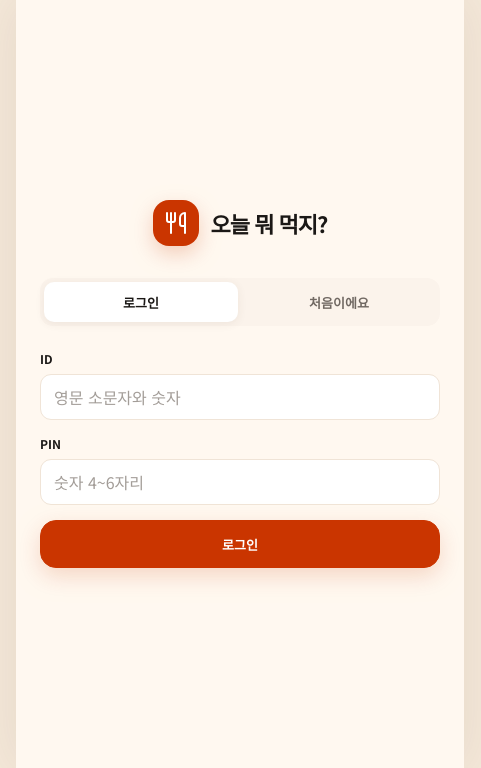
가입 화면에서 ID 중복확인과 제한된 개인정보 입력 방식을 제공한다
Expected: the tab "로그인" is shown, [44,282,238,322]
Click the tab "처음이에요".
click(339, 302)  # box [242,282,436,322]
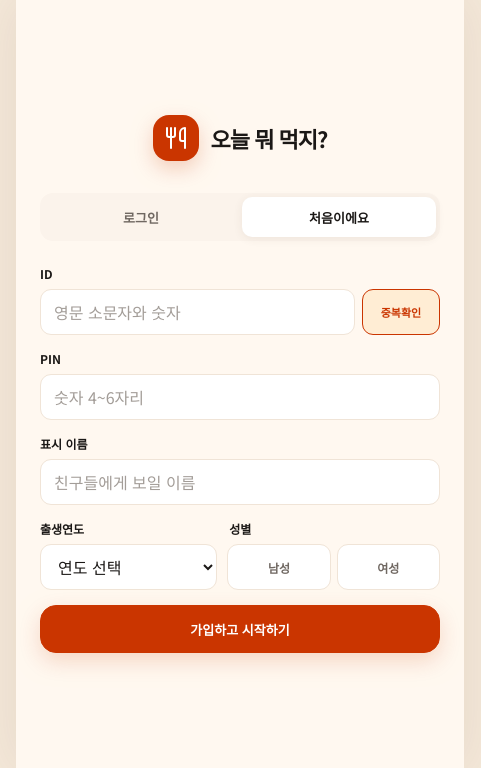
Type "FreshUser" into the field labelled "ID".
click(198, 312); type("FreshUser")  # box [40,289,355,335]
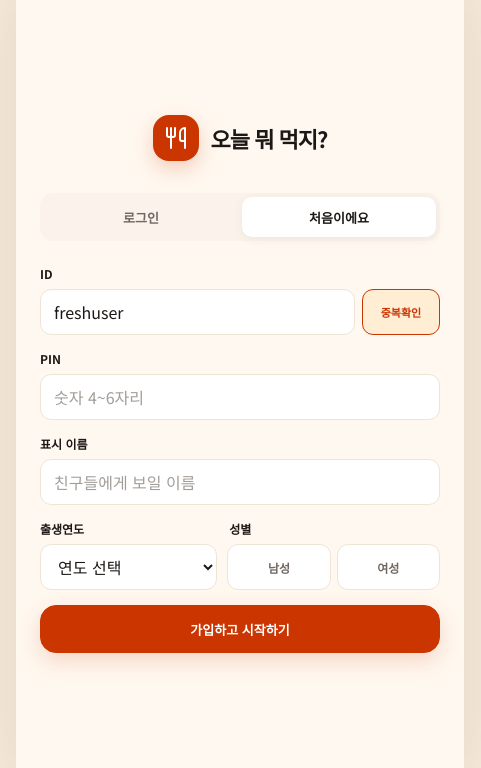
Click the button "중복확인".
click(401, 312)  # box [362,289,440,335]
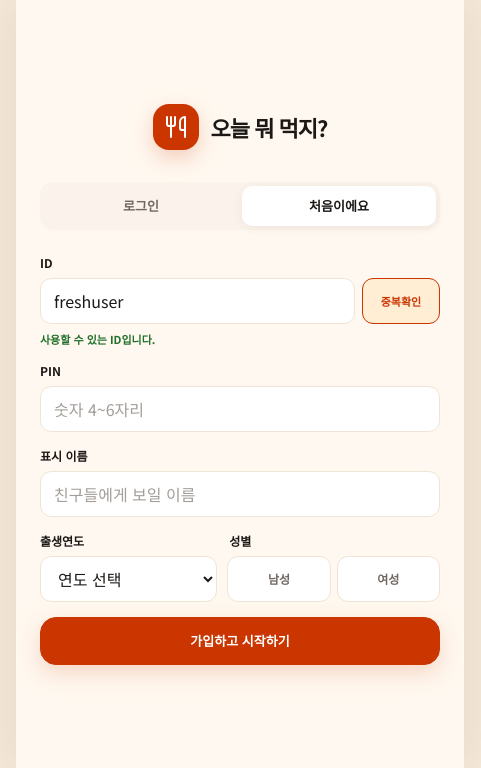
Expected: the radio button labelled "남성" is shown, [227,556,331,602]
Expected: the radio button labelled "여성" is shown, [337,556,440,602]
Expected: the text "사용할 수 있는 ID입니다." is shown, [40,330,155,346]
